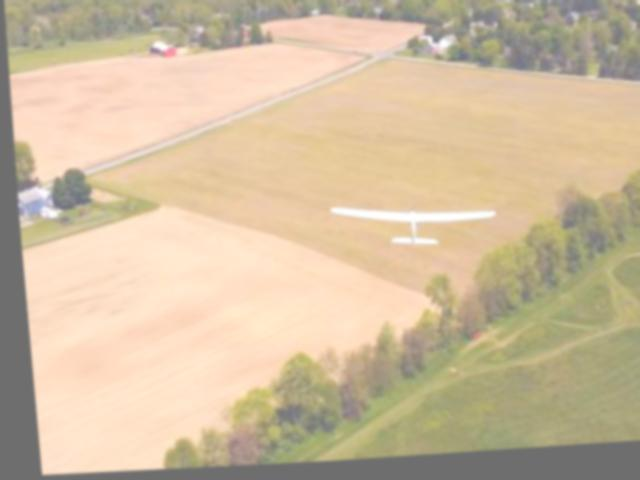uav: (317, 188, 500, 271)
